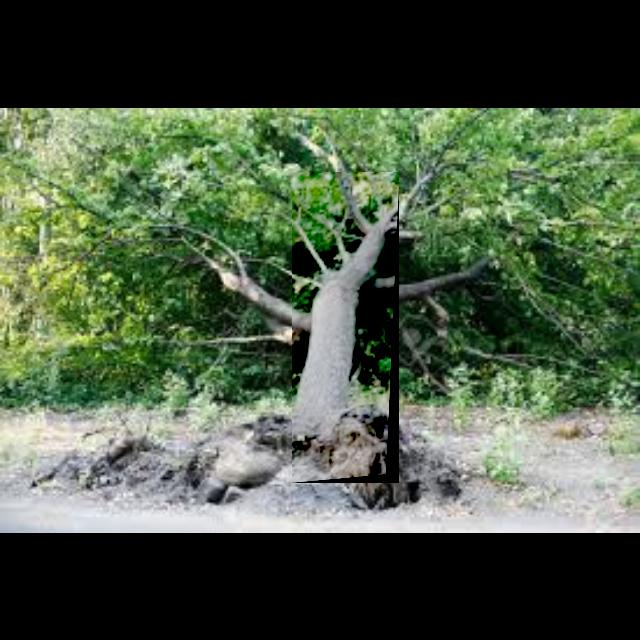Fallen Tree: (292, 172, 400, 484)
